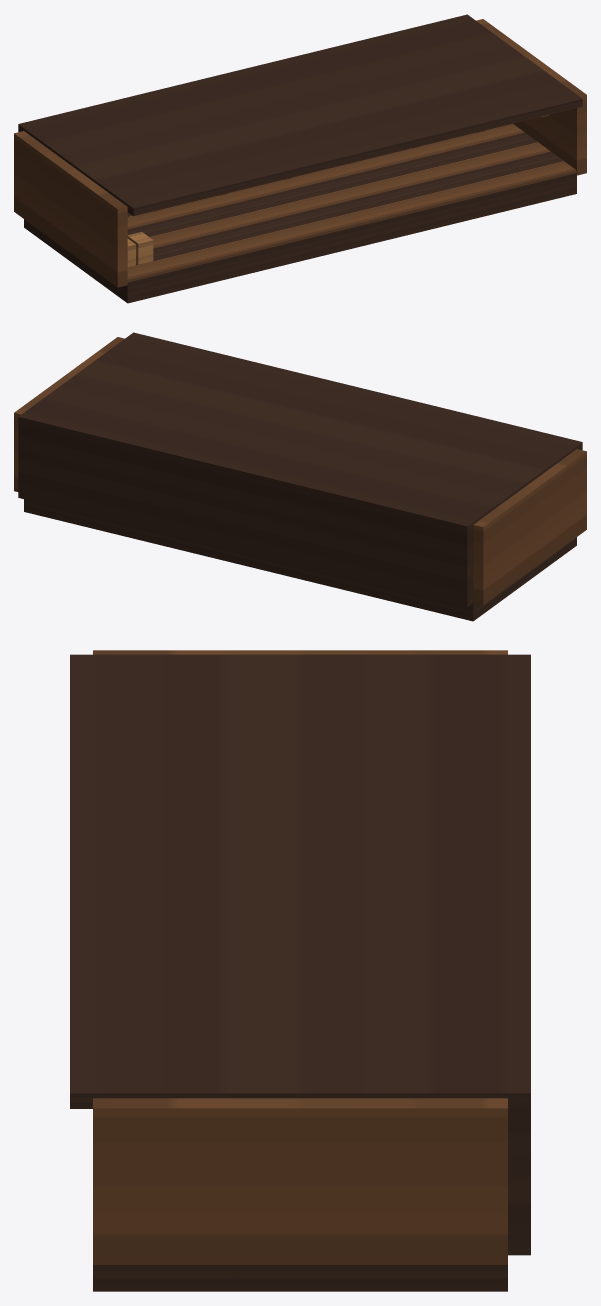
Rendered from SM_Env_GunDeck_HQ.glb.
3 views of the same model, one above another, from view 1: azimuth 30°, elevation 25°; view 2: azimuth 150°, elevation 25°; view 3: azimuth 270°, elevation 25° (orthographic). The views are drawn at different scales.
Visible parts, largest first — view 1: SM_Env_GunDeck_HQ; view 2: SM_Env_GunDeck_HQ; view 3: SM_Env_GunDeck_HQ.
Boxes of the visible parts, bbox=[...] form: SM_Env_GunDeck_HQ: bbox=[14, 14, 586, 303]; SM_Env_GunDeck_HQ: bbox=[14, 332, 586, 621]; SM_Env_GunDeck_HQ: bbox=[70, 650, 530, 1291].
Bounding box in the file's own units: 18.8 × 3.8 × 8.
Materials: 1 (1 with a texture image).
